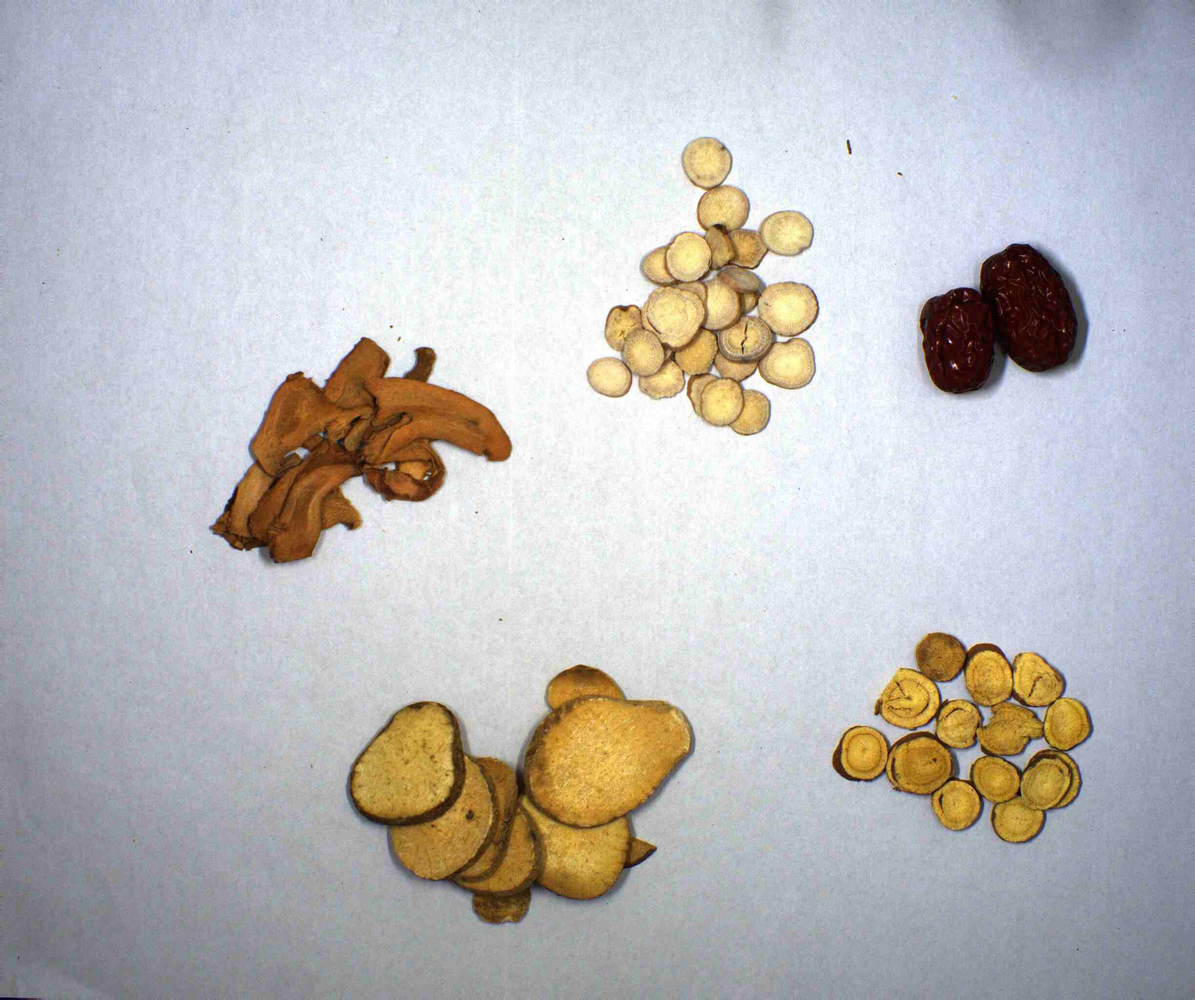baishao: (573, 136, 847, 449)
dazao: (911, 235, 1103, 409)
gancao: (825, 616, 1136, 852)
gaoliangjiang: (215, 337, 522, 564)
zexie: (311, 674, 727, 927)
